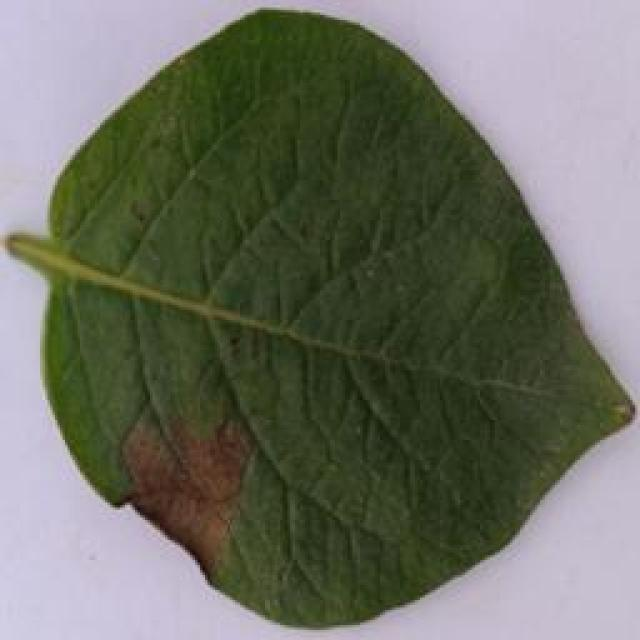Potato_Late_Blight: (13, 9, 624, 630)
